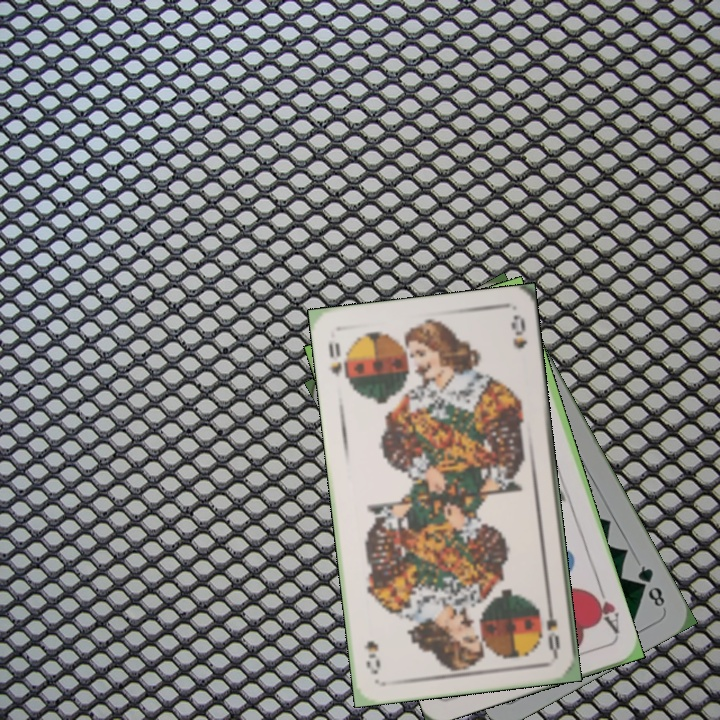G8: (633, 561, 668, 610)
HA: (586, 581, 622, 639)
SO: (542, 598, 562, 657), (324, 338, 350, 382)
